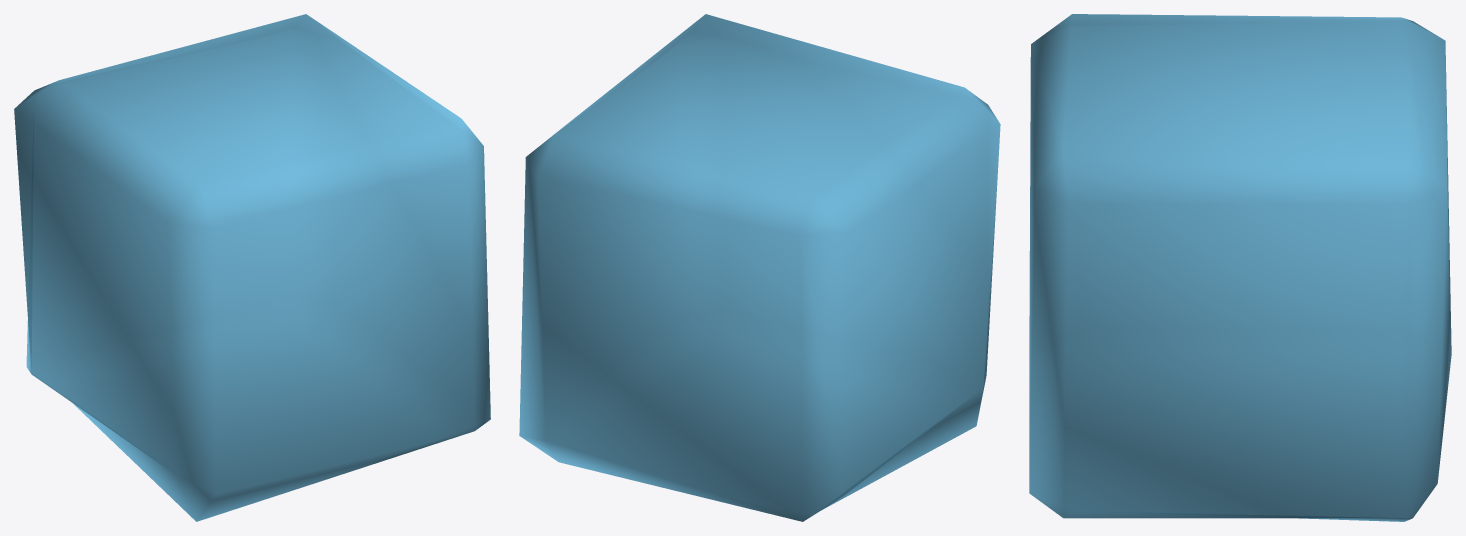
Rendered from ice cube.glb.
3 renders of one model, left to right at view 1: azimuth 30°, elevation 25°; view 2: azimuth 150°, elevation 25°; view 3: azimuth 270°, elevation 25°, orthographic. The views are drawn at different scales.
Parts seen in each view (by area): view 1: Cube.001; view 2: Cube.001; view 3: Cube.001.
Part boxes in pixels (<box>): Cube.001: <box>14,14,490,521</box>; Cube.001: <box>519,14,1000,521</box>; Cube.001: <box>1029,14,1451,521</box>.
Size of the model in its own units: 2.1 by 2.1 by 2.08.
